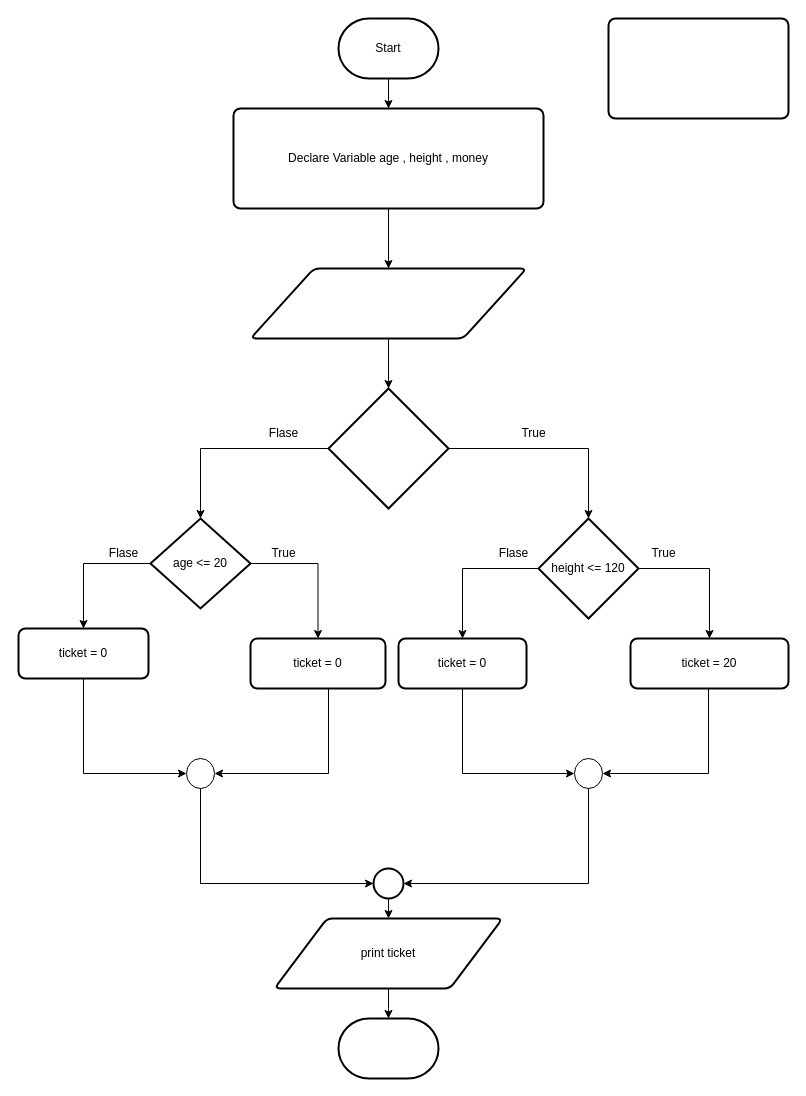
Image size: 806x1096. Some labels were removed from this diagram. The shapes that lost their labels are listed below. From the top down, each one's centre as x and y in pixels, then its label:
At point (698, 68): "Student ID : 1670700044 นายณัฐชนนท์ ศิรมลพิวัฒน์ เลขที่ 1".
At point (388, 303): "input age , height".
At point (388, 448): "Check age<=12".
At point (388, 1048): "end".
